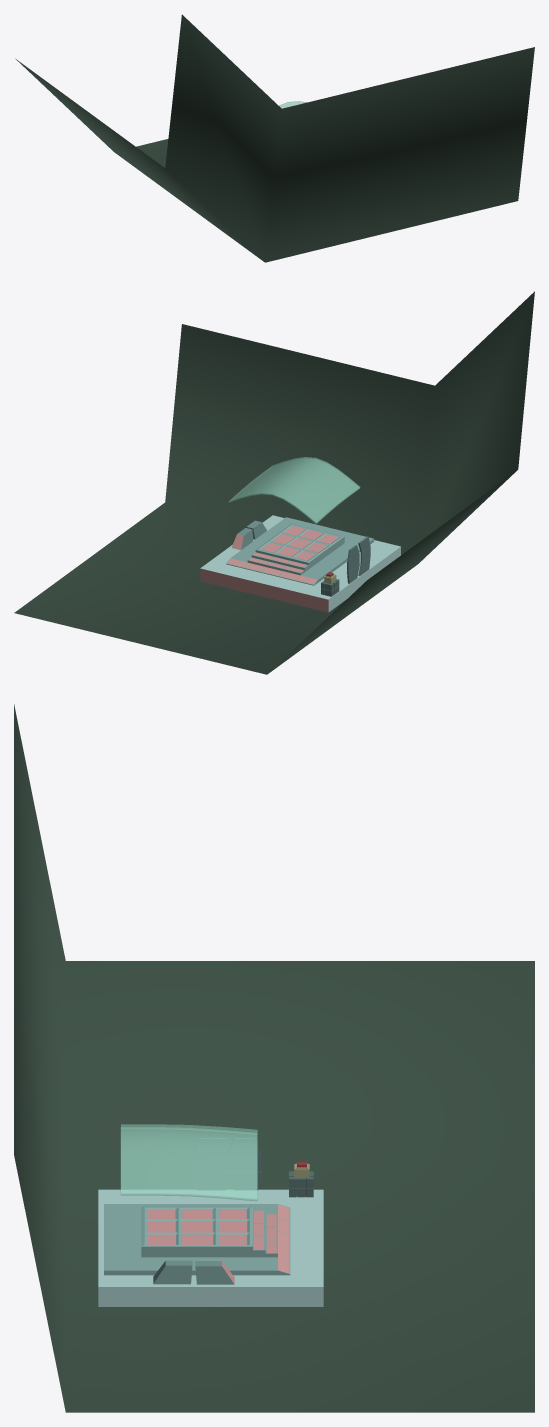
File: greenhouse.fbx
The picture shows the model from 3 angles, top to bottom: view 1: azimuth 30°, elevation 25°; view 2: azimuth 150°, elevation 25°; view 3: azimuth 270°, elevation 25°; orthographic projection. The views are drawn at different scales.
Visible parts, largest first — view 1: pCube133; view 2: pCube133, pCube24, polySurface7, polySurface3, polySurface4; view 3: pCube133, polySurface3, pCube24, polySurface7, pCube132, pCube131, pCube25.
Boxes of the visible parts, x1=… form: pCube133: x1=15, y1=14, x2=534, y2=262; pCube133: x1=14, y1=291, x2=534, y2=674; pCube24: x1=228, y1=457, x2=360, y2=523; polySurface7: x1=226, y1=517, x2=374, y2=585; polySurface3: x1=200, y1=515, x2=400, y2=611; polySurface4: x1=200, y1=568, x2=328, y2=612; pCube133: x1=14, y1=704, x2=534, y2=1412; polySurface3: x1=98, y1=1189, x2=323, y2=1306; pCube24: x1=120, y1=1124, x2=257, y2=1201; polySurface7: x1=104, y1=1204, x2=290, y2=1275; pCube132: x1=226, y1=1138, x2=261, y2=1190; pCube131: x1=193, y1=1138, x2=226, y2=1189; pCube25: x1=153, y1=1260, x2=192, y2=1284.
Bounding box in the file's own units: 29.25 × 22.58 × 24.1.
